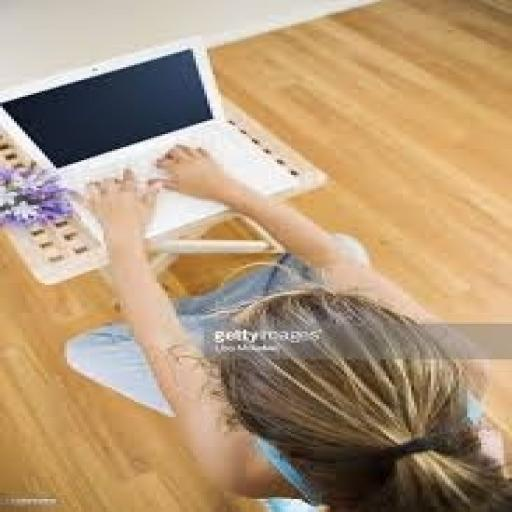using_laptop: (0, 33, 330, 244)
